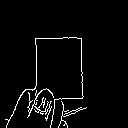cube: (22, 28, 102, 110)
